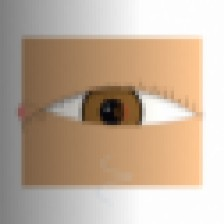foreign_body_visible: (102, 98, 138, 126)
